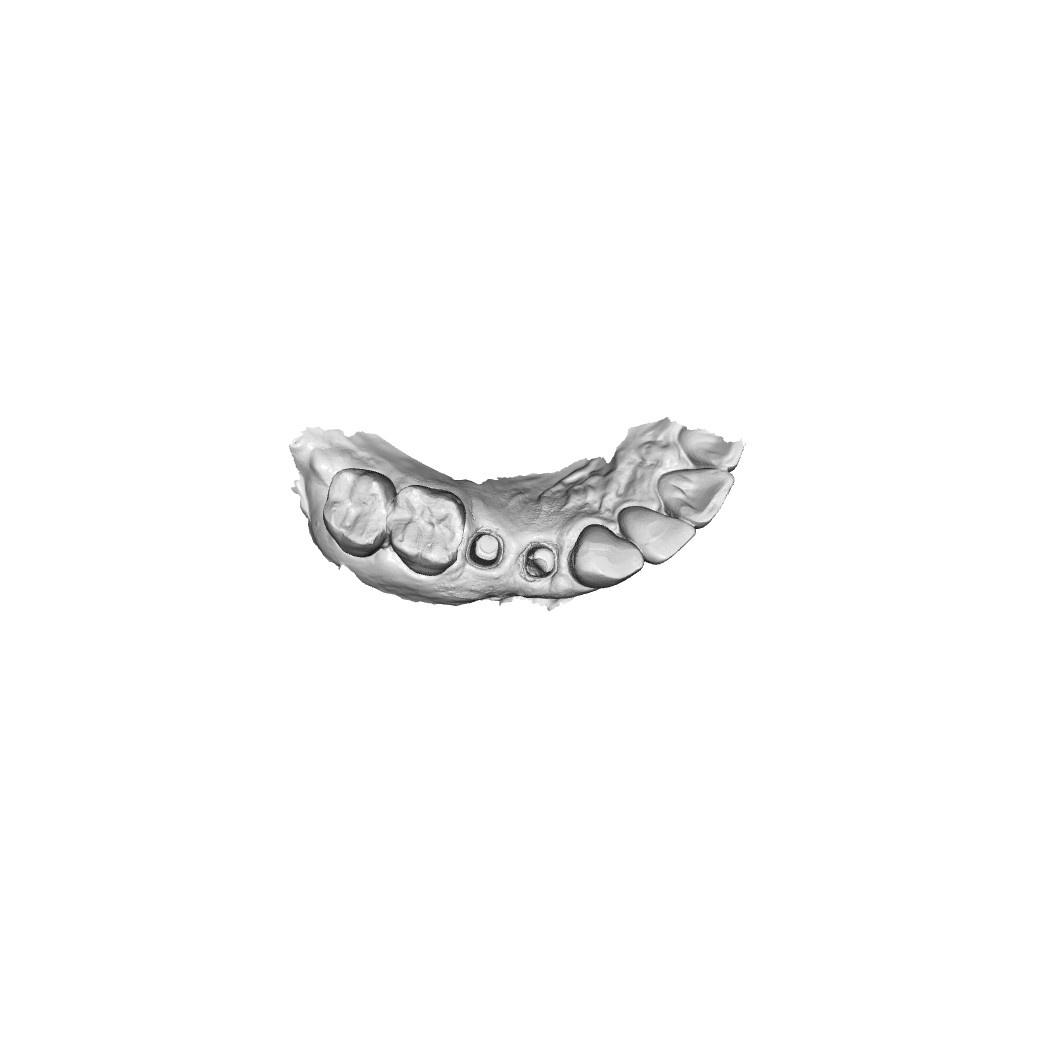abutment: (522, 540, 558, 583), (468, 529, 507, 568)
canine: (569, 519, 643, 591)
incisor: (655, 463, 737, 528), (619, 501, 696, 565)
molar: (388, 479, 467, 576), (319, 464, 395, 558)
